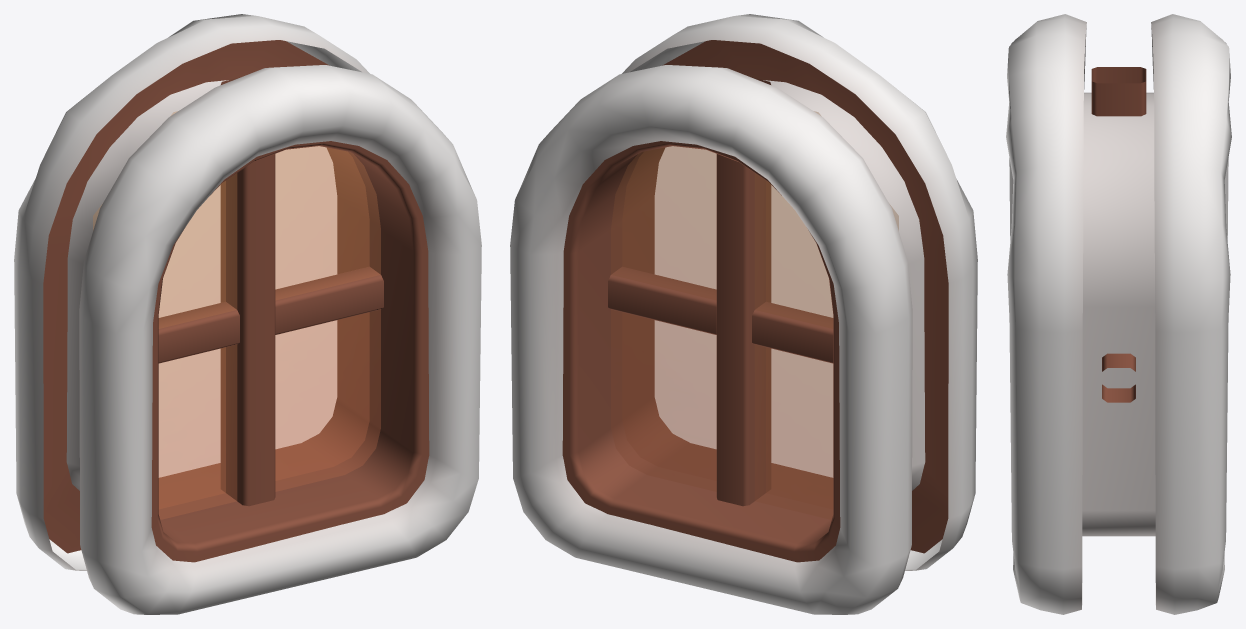
File: Window_001.fbx
The picture shows the model from 3 angles, left to right: view 1: azimuth 30°, elevation 25°; view 2: azimuth 150°, elevation 25°; view 3: azimuth 270°, elevation 25°; orthographic projection.
Visible parts, largest first — view 1: Window_001; view 2: Window_001; view 3: Window_001.
Boxes of the visible parts, x1,y1,x2,y2 form: Window_001: [14, 14, 481, 614]; Window_001: [510, 14, 977, 614]; Window_001: [1006, 14, 1231, 614].
Bounding box in the file's own units: 1.06 × 1.35 × 0.5377.
